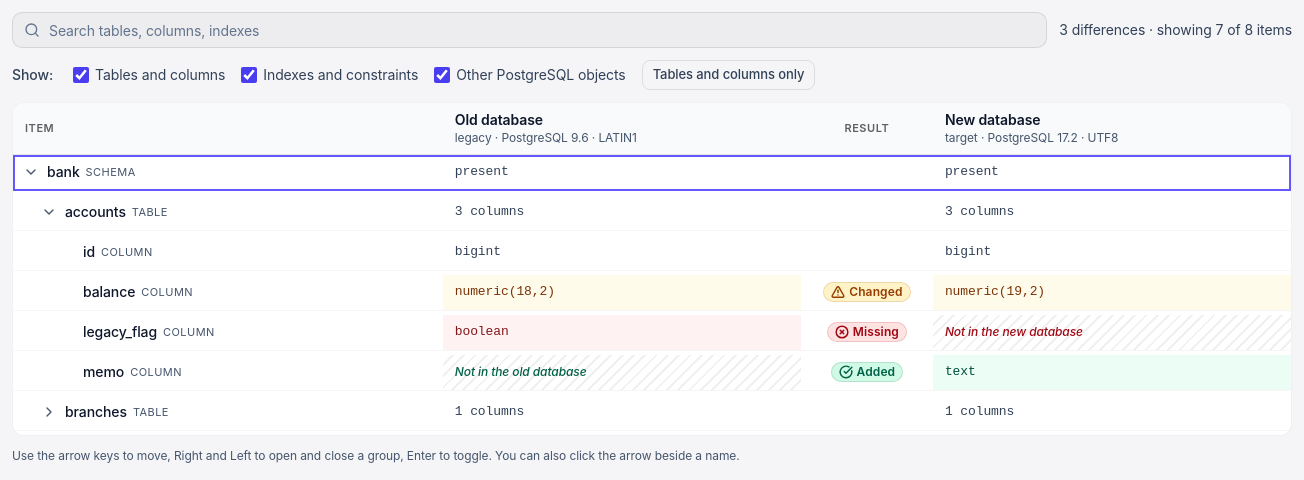
Test: StructureCompareView › says so when nothing matches
This screenshot has width=1304, height=480.
Type "zzz" into the search field named "Search the structure".
click(530, 30); type("zzz")  # box [12,12,1047,48]
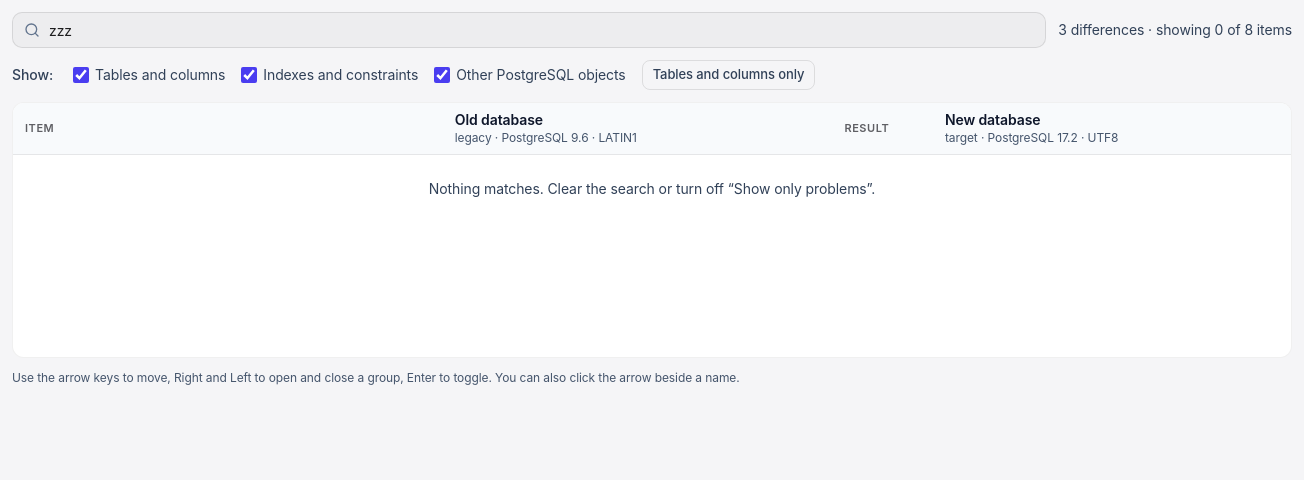
Expected: the text "Nothing matches" is shown, [429,180,875,196]
